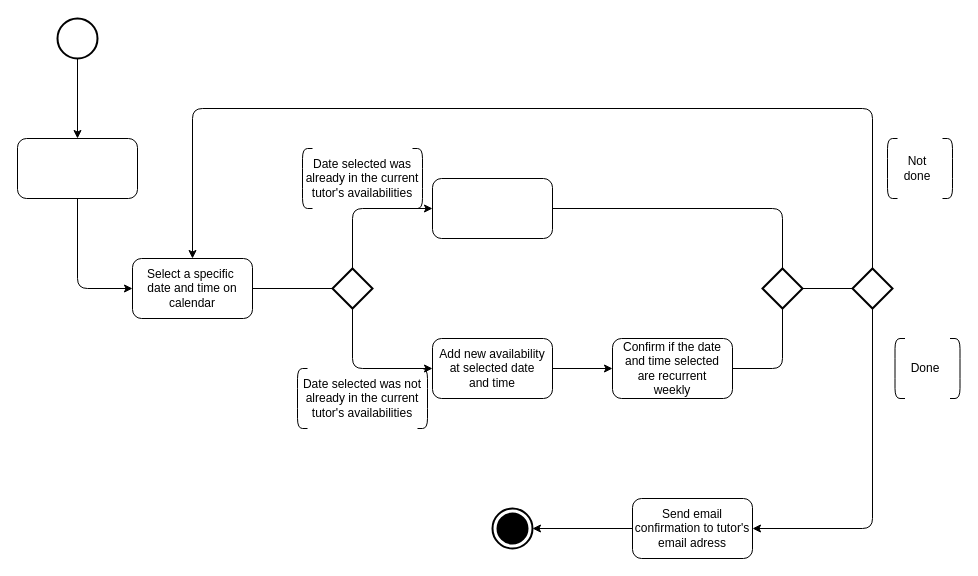
This 978x576 diagram has some shape labels left out. Each missing label, with the box of its shape:
Delete the selected date and time: (432, 178, 552, 238)
Display current availability calendar: (16, 138, 138, 198)
